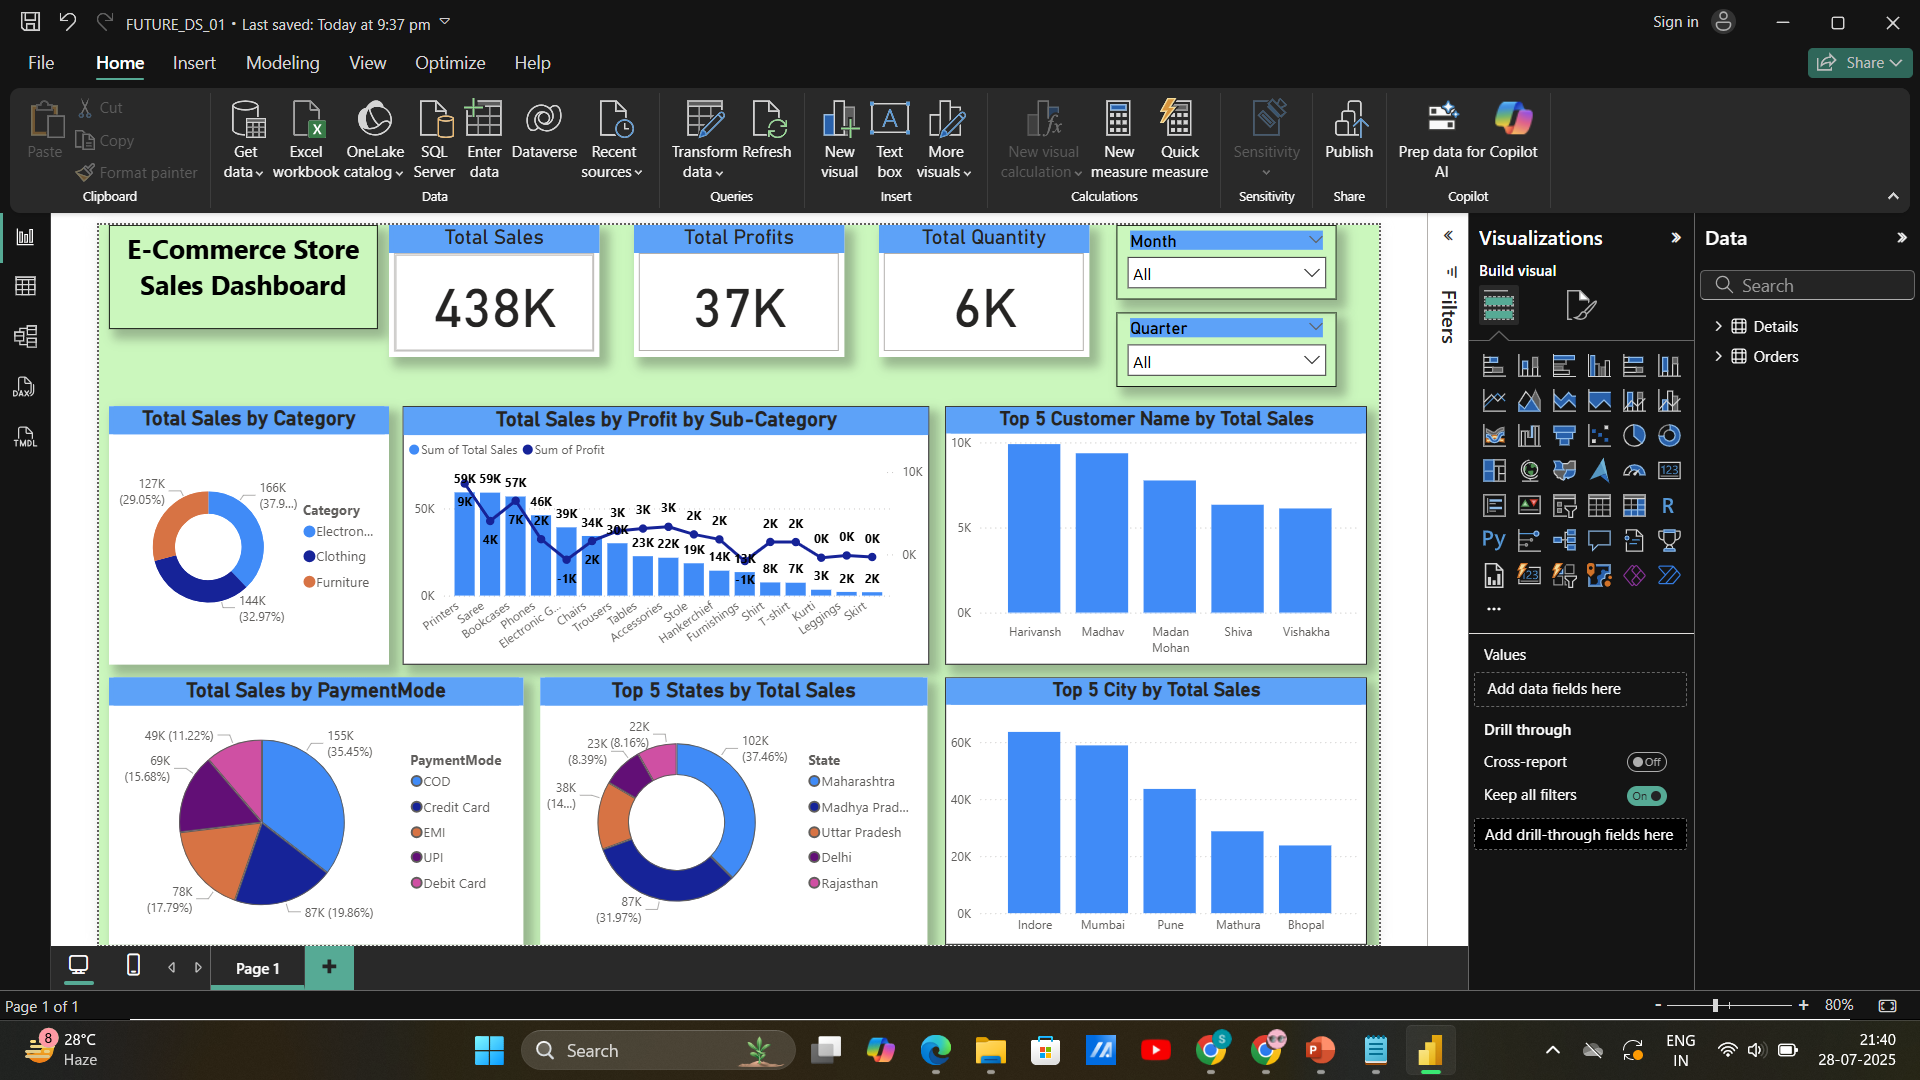

This screenshot's page, from the dashboard's own definition file:
{"tool":"powerbi","page":{"name":"Page 1","canvas":[1280,720],"ordinal":0},"visuals":[{"type":"textbox","box":[10,0,268.6,104.3],"z":0},{"type":"cardVisual","title":"Total Sales","fields":{"Data":["Details.Total Sales"]},"box":[289.8,0,210.2,131.9],"z":1000},{"type":"cardVisual","title":"Total Profits","fields":{"Data":["Details.Profit"]},"box":[534.9,0,210.2,131.9],"z":2000},{"type":"cardVisual","title":"Total Quantity","fields":{"Data":["Details.Quantity"]},"box":[780,0,210.2,131.9],"z":3000},{"type":"slicer","fields":{"Values":["Orders.Order Date.Variation.Date Hierarchy.Month"]},"box":[1017.6,0,220.2,74.6],"z":4000},{"type":"slicer","fields":{"Values":["Orders.Order Date.Variation.Date Hierarchy.Quarter"]},"box":[1017.6,87.1,220.2,74.6],"z":5000},{"type":"donutChart","title":" Total Sales by Category","fields":{"Category":["Details.Category"],"Y":["Details.Total Sales"]},"box":[10,181.4,280,258.6],"z":6000},{"type":"lineStackedColumnComboChart","title":" Total Sales by  Profit by Sub-Category","fields":{"Category":["Details.Sub-Category"],"Y":["Details.Total Sales"],"Y2":["Details.Profit"]},"box":[303.5,181.6,526.2,258.7],"z":7000},{"type":"columnChart","title":"Top 5 Customer Name by  Total Sales ","fields":{"Category":["Orders.CustomerName"],"Y":["Details.Total Sales"]},"box":[845.9,181.6,421.7,258.7],"z":8000},{"type":"pieChart","title":" Total Sales by PaymentMode","fields":{"Y":["Details.Total Sales"],"Category":["Details.PaymentMode"]},"box":[10,452.9,414.3,267.1],"z":9000},{"type":"donutChart","title":"Top 5 States by Total Sales ","fields":{"Category":["Orders.State"],"Y":["Details.Total Sales"]},"box":[441.4,452.9,387.1,267.1],"z":10000},{"type":"columnChart","title":"Top 5 City by  Total Sales ","fields":{"Category":["Orders.City"],"Y":["Details.Total Sales"]},"box":[845.7,452.9,421.4,267.1],"z":11000}]}

Visuals, with their boxes on the page's 1280x720 design canvas (x1, y1, x2, y2). These are canvas units, not pixel positions in the 1920x1080 screenshot, which may show the page scaled, cropped or inside an application window:
textbox: 10 0 279 104
"Total Sales" cardVisual: 290 0 500 132
"Total Profits" cardVisual: 535 0 745 132
"Total Quantity" cardVisual: 780 0 990 132
slicer - Orders.Order Date.Variation.Date Hierarchy.Month: 1018 0 1238 75
slicer - Orders.Order Date.Variation.Date Hierarchy.Quarter: 1018 87 1238 162
" Total Sales by Category" donutChart: 10 181 290 440
" Total Sales by  Profit by Sub-Category" lineStackedColumnComboChart: 304 182 830 440
"Top 5 Customer Name by  Total Sales " columnChart: 846 182 1268 440
" Total Sales by PaymentMode" pieChart: 10 453 424 720
"Top 5 States by Total Sales " donutChart: 441 453 828 720
"Top 5 City by  Total Sales " columnChart: 846 453 1267 720
